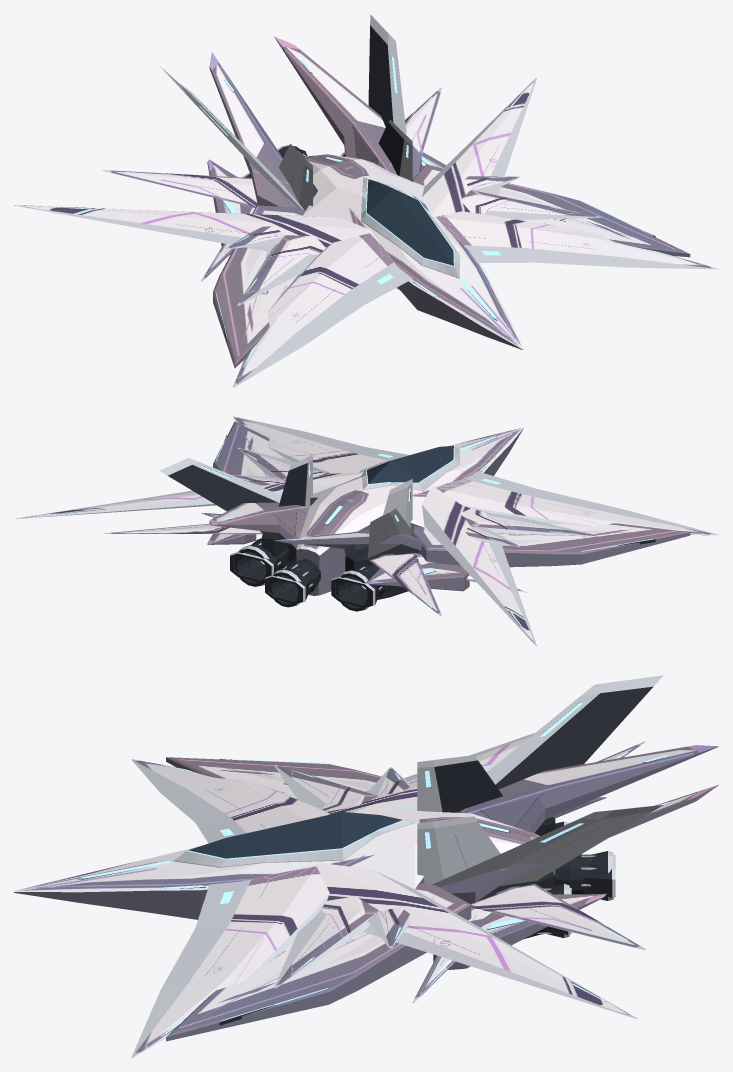
Rendered from R18_LIBRARY_CRYSTAL.glb.
3 renders of one model, top to bottom at view 1: azimuth 30°, elevation 25°; view 2: azimuth 150°, elevation 25°; view 3: azimuth 270°, elevation 25°, orthographic. The views are drawn at different scales.
Visible parts, largest first — view 1: A01_Central_Faceted_Monocoque, W02A_Full_Wing_L, W02A_Full_Wing_R, W03_Full_Wing_L, W03_Full_Wing_R, B01_MainWing_L, C02_Swept_Dorsal_Keel_R, B01_MainWing_R, C02_Swept_Dorsal_Keel_L, D02_Canopy_Closed_Faceted_Glass, T02_Canted_Fin_R, W02B_Full_Wing_L (+10 smaller); view 2: A01_Central_Faceted_Monocoque, W02A_Full_Wing_L, B01_MainWing_L, W03_Full_Wing_L, W02A_Full_Wing_R, T02_Canted_Fin_R, W03_Full_Wing_R, C02_Swept_Dorsal_Keel_R, B01_MainWing_R, D02_Canopy_Closed_Faceted_Glass, W02B_Full_Wing_L, A02_Blade_L (+19 smaller); view 3: W02A_Full_Wing_R, A01_Central_Faceted_Monocoque, B01_MainWing_R, W03_Full_Wing_R, C02_Swept_Dorsal_Keel_L, W02A_Full_Wing_L, T02_Canted_Fin_L, T02_Canted_Fin_R, D02_Canopy_Closed_Faceted_Glass, T03_Canted_Fin_R, A02_Blade_R, W02B_Full_Wing_R (+12 smaller).
Part boxes in pixels (x1,y1,x2,y2): A01_Central_Faceted_Monocoque: [303, 154, 523, 349]; W02A_Full_Wing_L: [233, 233, 412, 387]; W02A_Full_Wing_R: [436, 211, 718, 269]; W03_Full_Wing_L: [14, 205, 380, 251]; W03_Full_Wing_R: [422, 78, 536, 227]; B01_MainWing_L: [213, 205, 305, 367]; C02_Swept_Dorsal_Keel_R: [274, 36, 421, 178]; B01_MainWing_R: [412, 164, 690, 257]; C02_Swept_Dorsal_Keel_L: [209, 52, 313, 207]; D02_Canopy_Closed_Faceted_Glass: [366, 179, 453, 265]; T02_Canted_Fin_R: [368, 14, 406, 134]; W02B_Full_Wing_L: [237, 235, 325, 305]; A01_Central_Faceted_Monocoque: [296, 427, 523, 595]; W02A_Full_Wing_L: [436, 471, 718, 535]; B01_MainWing_L: [411, 521, 690, 567]; W03_Full_Wing_L: [422, 483, 536, 646]; W02A_Full_Wing_R: [233, 416, 409, 473]; T02_Canted_Fin_R: [159, 457, 281, 532]; W03_Full_Wing_R: [14, 472, 363, 518]; C02_Swept_Dorsal_Keel_R: [209, 502, 309, 548]; B01_MainWing_R: [213, 421, 289, 476]; D02_Canopy_Closed_Faceted_Glass: [366, 445, 453, 483]; W02B_Full_Wing_L: [461, 508, 600, 536]; A02_Blade_L: [369, 553, 441, 616]; W02A_Full_Wing_R: [131, 866, 329, 1057]; A01_Central_Faceted_Monocoque: [14, 810, 555, 919]; B01_MainWing_R: [166, 883, 471, 1041]; W03_Full_Wing_R: [288, 863, 637, 1018]; C02_Swept_Dorsal_Keel_L: [458, 745, 718, 833]; W02A_Full_Wing_L: [131, 759, 329, 843]; T02_Canted_Fin_L: [487, 675, 663, 789]; T02_Canted_Fin_R: [432, 805, 662, 886]; D02_Canopy_Closed_Faceted_Glass: [188, 812, 402, 858]; T03_Canted_Fin_R: [417, 816, 500, 884]; A02_Blade_R: [471, 884, 645, 949]; W02B_Full_Wing_R: [274, 896, 378, 988].
Bounding box in the file's own units: 10.84 × 2.66 × 10.06.
27 materials, 19 textured.
